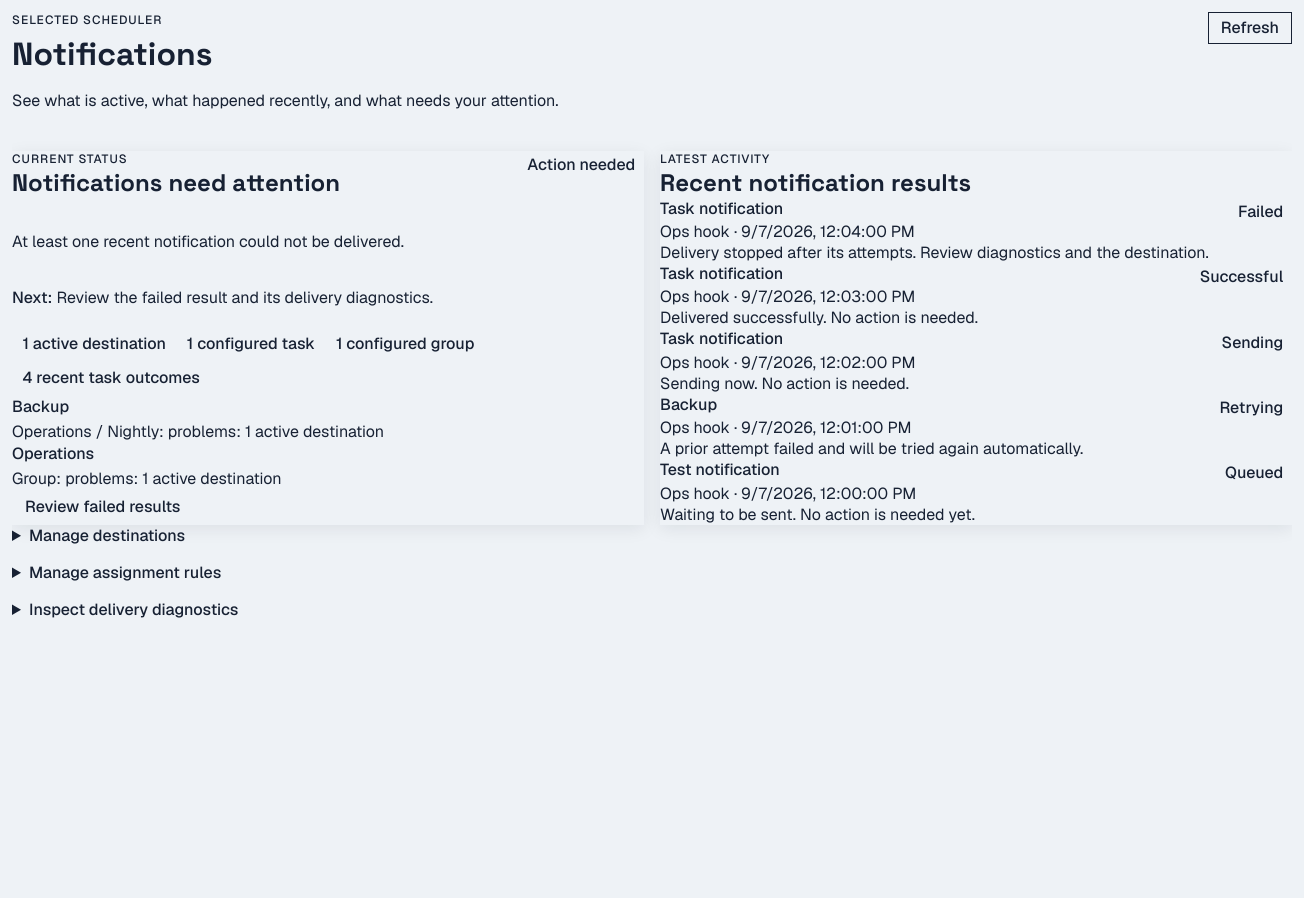
Test: NotificationsPage › distinguishes every delivery state and test detail from task outcomes
The width and height of the screenshot is (1304, 898).
expect the text "1 active destination" is shown: met, box [12, 328, 176, 362]
Click the heading "Inspect delivery diagnostics": (134, 609) [29, 598, 238, 620]
(page scrolled)
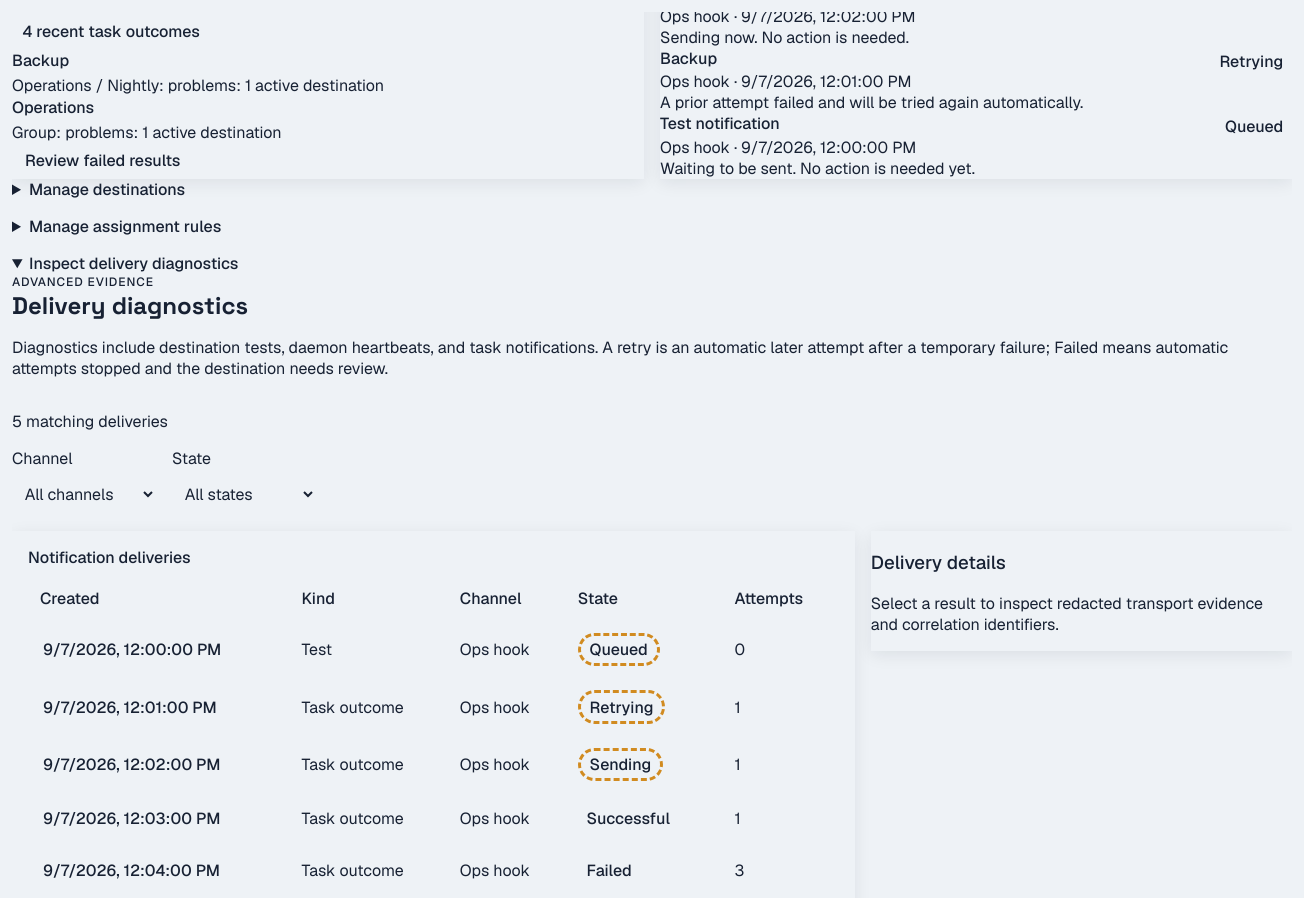
expect the text "5 matching deliveries" is shown: met, box [12, 410, 168, 432]
expect the text "Test" is shown: met, box [290, 621, 448, 678]
expect the text "Task outcome" is shown 4 times: met, box [290, 678, 448, 736]; [290, 736, 448, 793]; [290, 793, 448, 844]; [290, 844, 448, 896]
Click the button "9/7/2026, 12:00:00 PM": (132, 650) [40, 636, 225, 663]
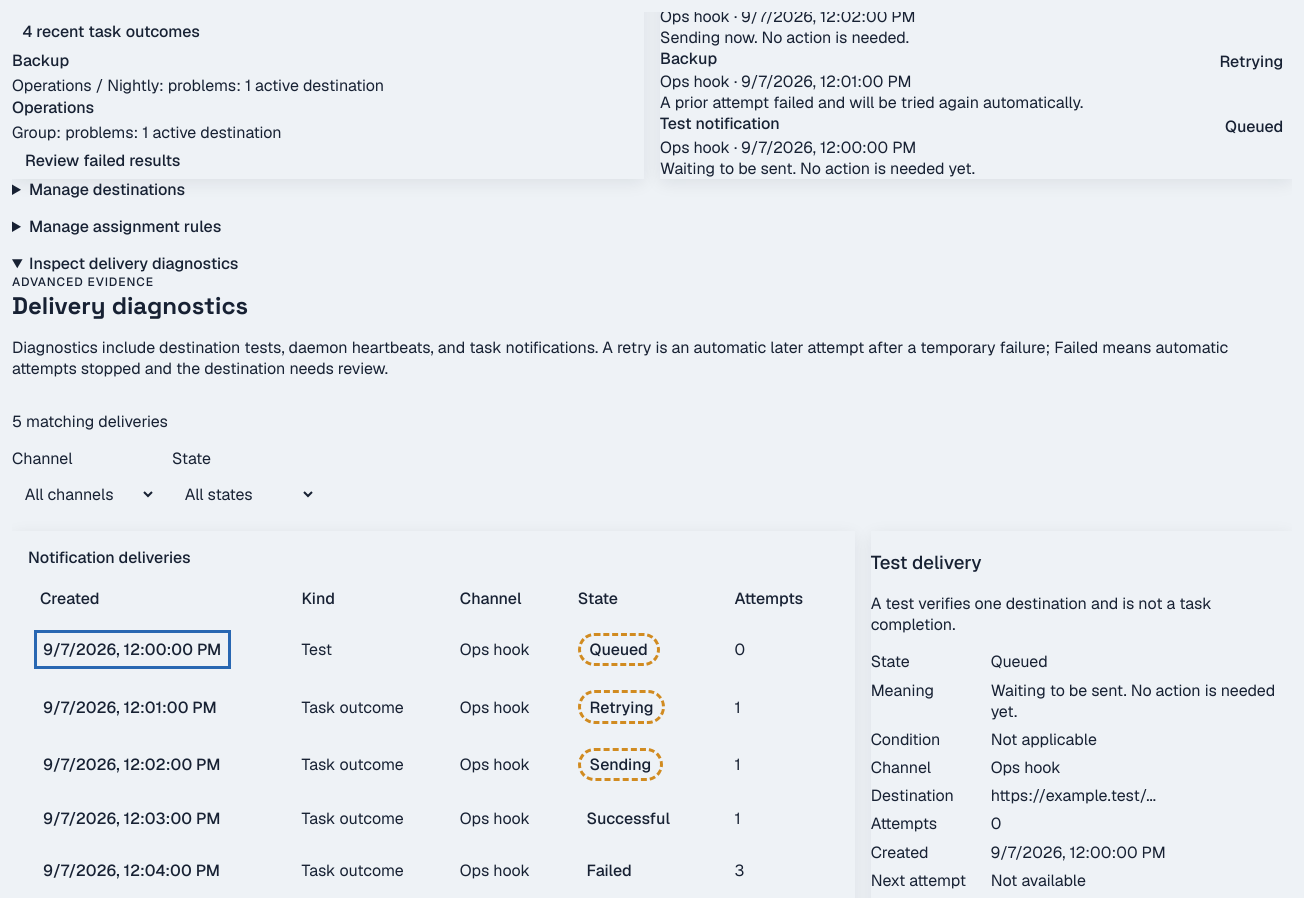
expect the heading "Test delivery" is shown: met, box [871, 550, 982, 575]
expect the text "not a task completion" is shown: met, box [871, 593, 1212, 635]
Select "Failed" in the dropdown labelled "State": (244, 494) [172, 473, 316, 515]
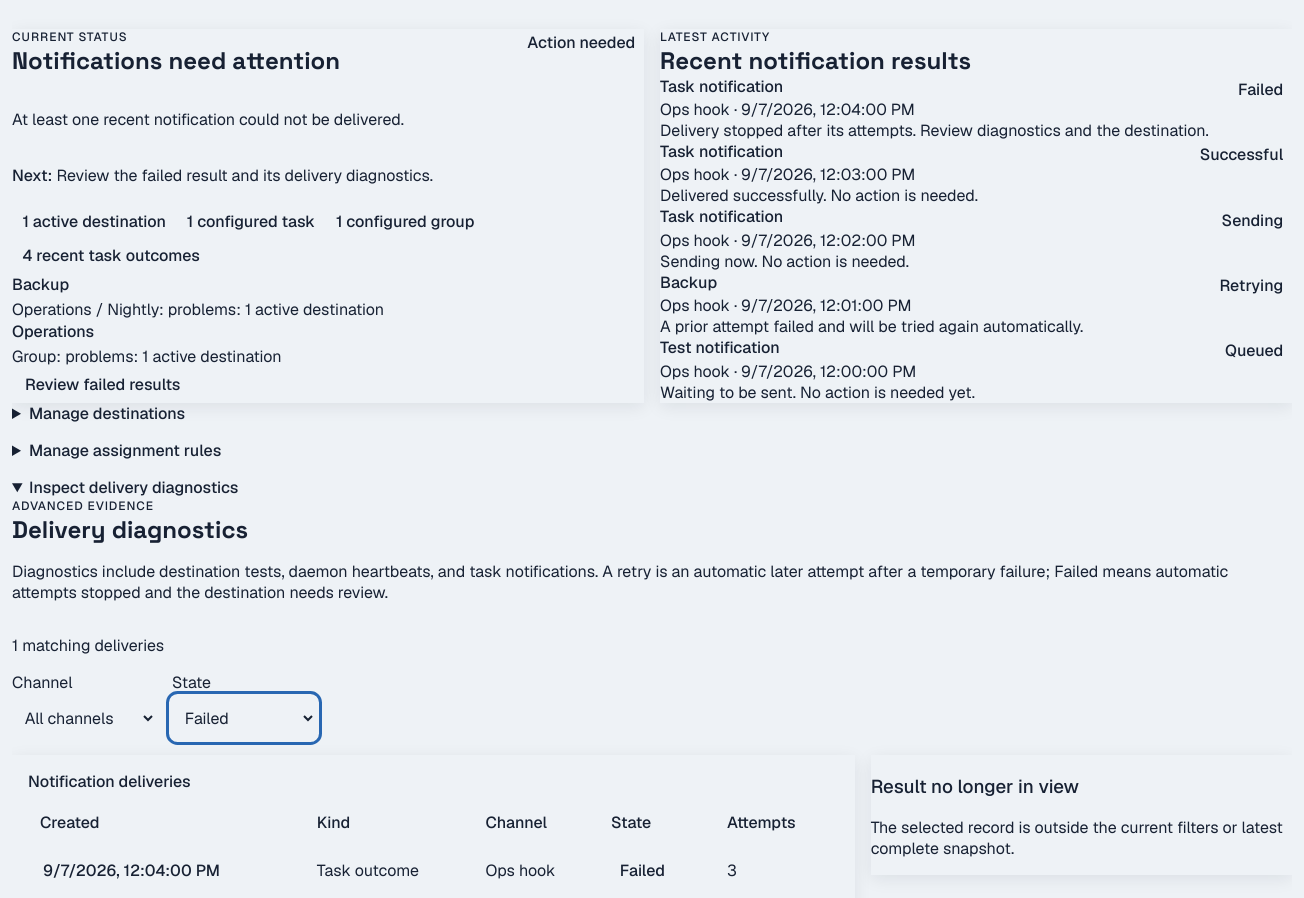
expect the text "1 matching deliveries" is shown: met, box [12, 634, 164, 656]
Click the button "9/7/2026, 12:04:00 PM": (132, 871) [40, 857, 223, 884]
(page scrolled)
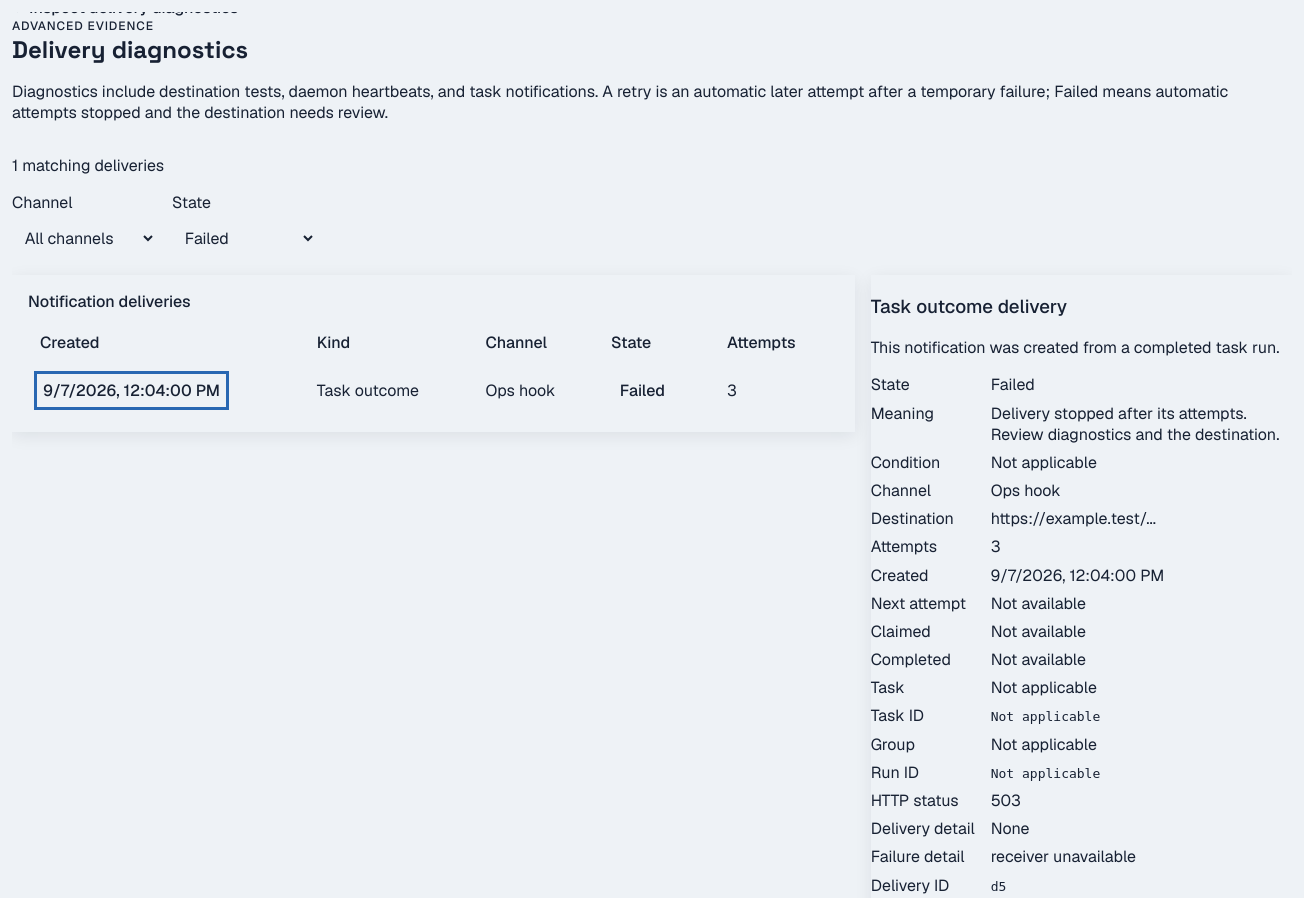
expect the text "receiver unavailable" is shown: met, box [991, 846, 1136, 867]
